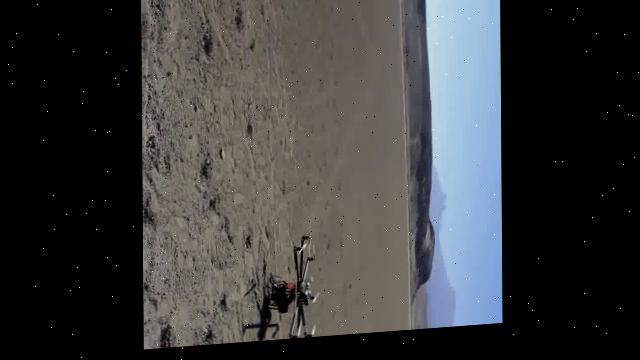drone: (140, 0, 397, 352)
